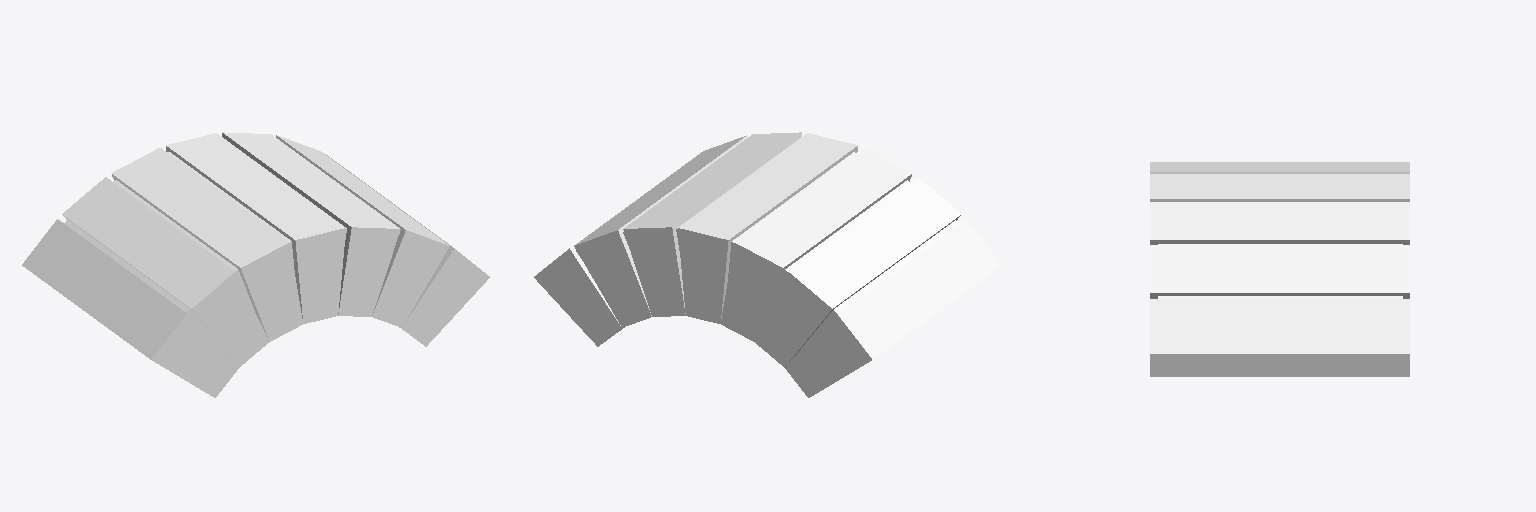
Rendered from generic_segmental_arch_1_thick.obj.
The picture shows the model from 3 angles: view 1: azimuth 30°, elevation 25°; view 2: azimuth 150°, elevation 25°; view 3: azimuth 270°, elevation 25°; orthographic projection.
Parts seen in each view (by area): view 1: tube, tube.000; view 2: tube, tube.000; view 3: tube, tube.000.
Boxes of the visible parts, x1=… form: tube: x1=22, y1=132, x2=489, y2=397; tube.000: x1=64, y1=152, x2=399, y2=352; tube: x1=534, y1=132, x2=1001, y2=397; tube.000: x1=576, y1=152, x2=958, y2=354; tube: x1=1150, y1=162, x2=1409, y2=376; tube.000: x1=1158, y1=244, x2=1402, y2=298.
Bounding box in the file's own units: 1.71 × 0.6664 × 1.13.